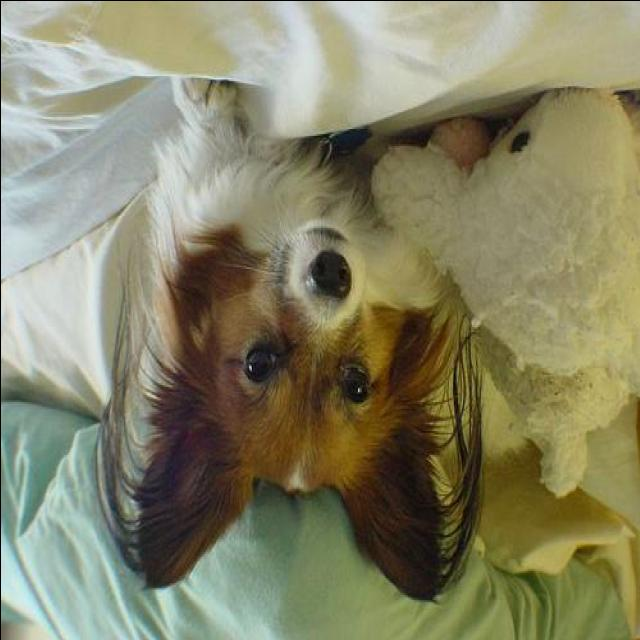papillon: (84, 73, 487, 604)
